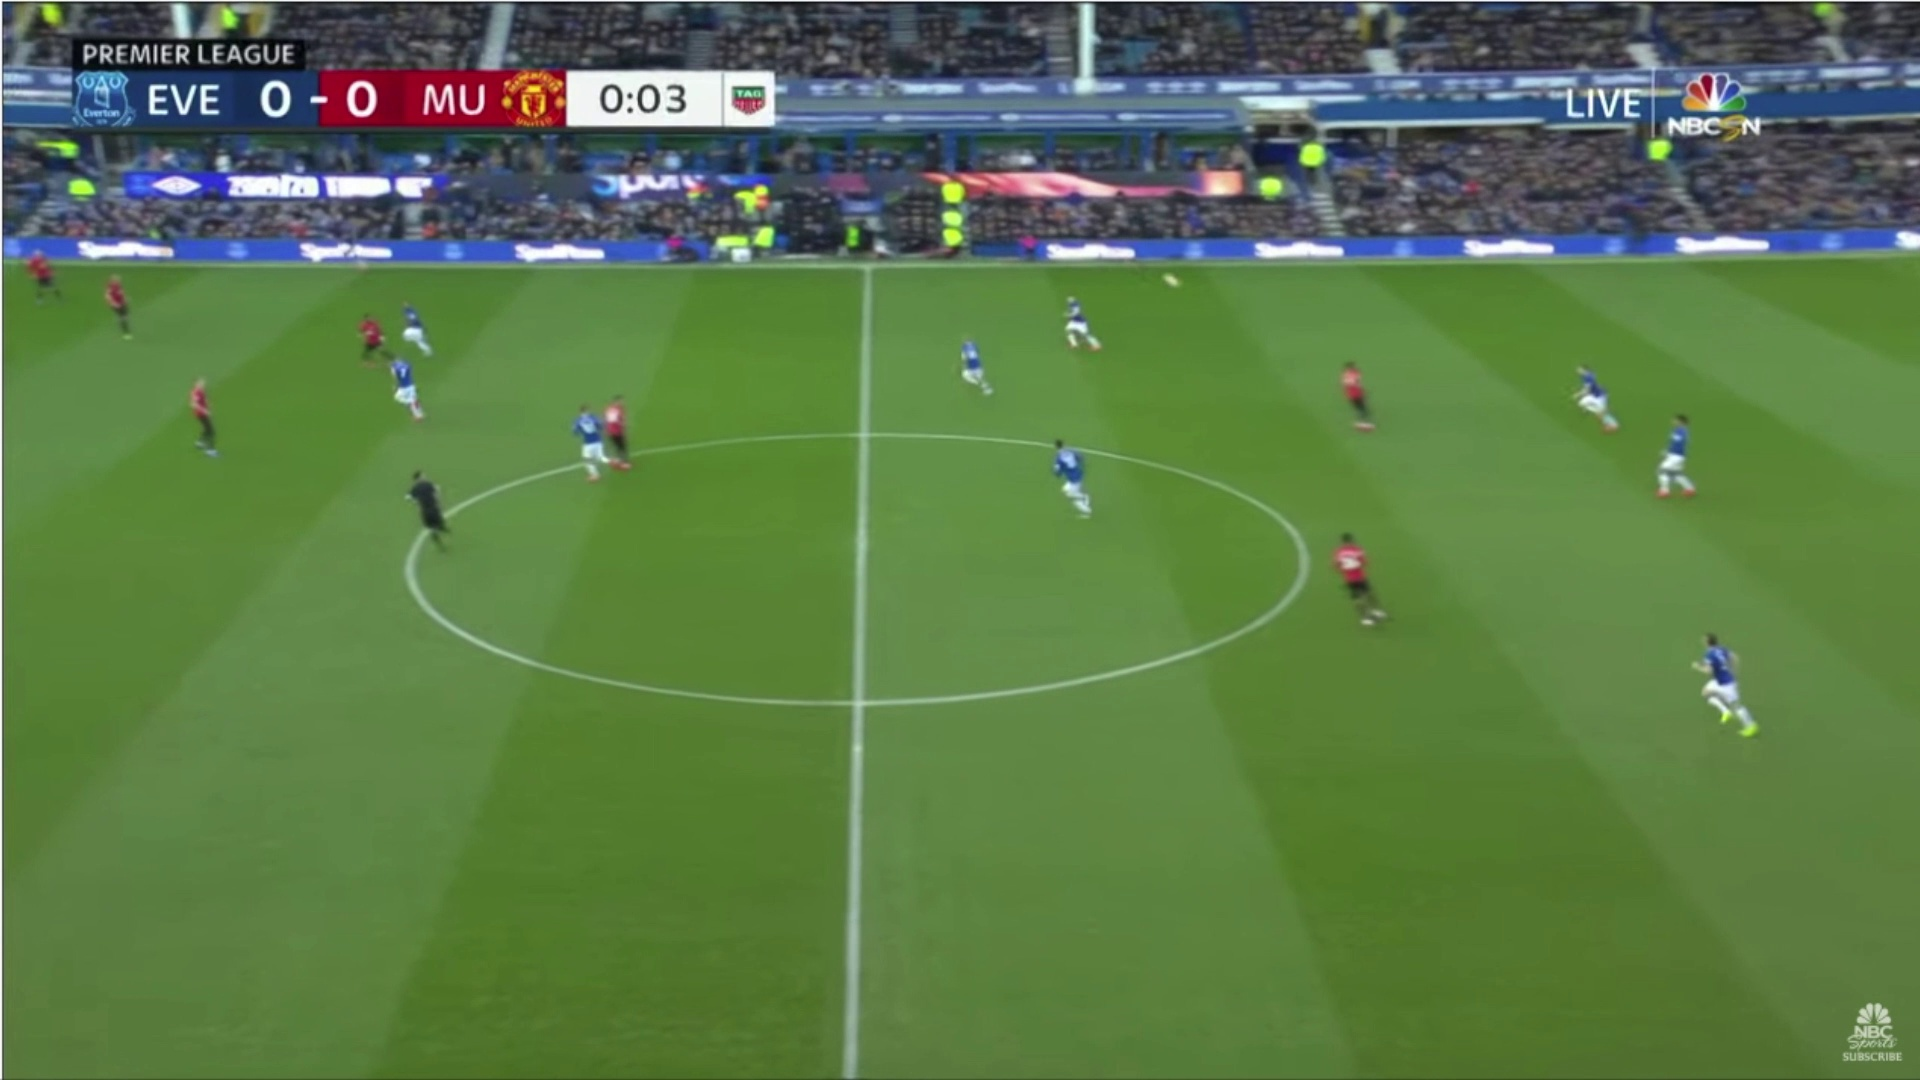ball: (1158, 267, 1185, 292)
player: (1664, 610, 1783, 750), (1300, 519, 1400, 652), (1629, 400, 1722, 513), (1552, 342, 1641, 442), (1027, 425, 1110, 527), (1312, 344, 1393, 440), (166, 369, 252, 456), (589, 377, 650, 483), (941, 319, 1008, 406), (1047, 288, 1118, 363), (560, 396, 612, 487), (97, 269, 150, 352), (374, 348, 431, 425), (14, 237, 66, 313), (385, 294, 441, 354), (345, 310, 397, 362)
